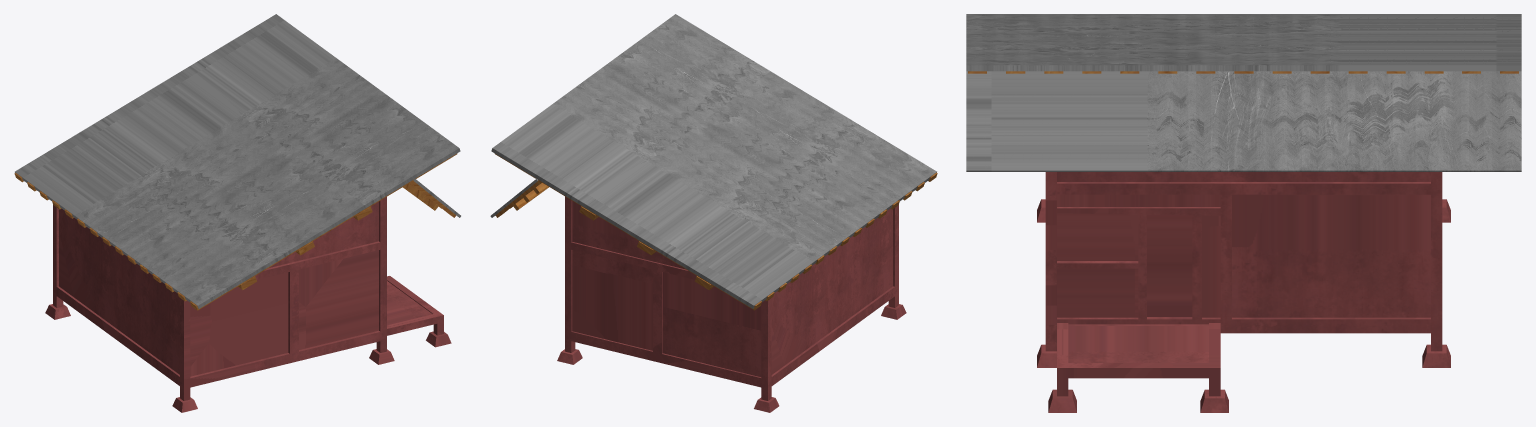
The model's file is Rumah2.fbx.
The picture shows the model from 3 angles, left to right: view 1: azimuth 30°, elevation 25°; view 2: azimuth 150°, elevation 25°; view 3: azimuth 270°, elevation 25°; orthographic projection. The views are drawn at different scales.
Parts seen in each view (by area): view 1: House; view 2: House; view 3: House.
Part boxes in pixels (box(x1,y1,x2,y2)): House: box(14, 14, 460, 412); House: box(490, 14, 937, 412); House: box(966, 14, 1521, 412).
Size of the model in its own units: 806 by 601 by 907.
